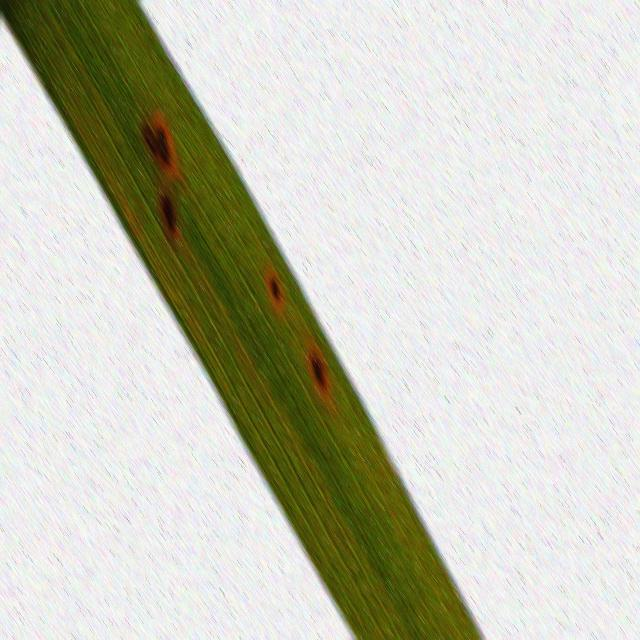LEAF BLAST: (152, 110, 183, 180), (157, 187, 179, 244), (308, 342, 330, 398), (266, 266, 284, 318), (142, 119, 157, 161)
